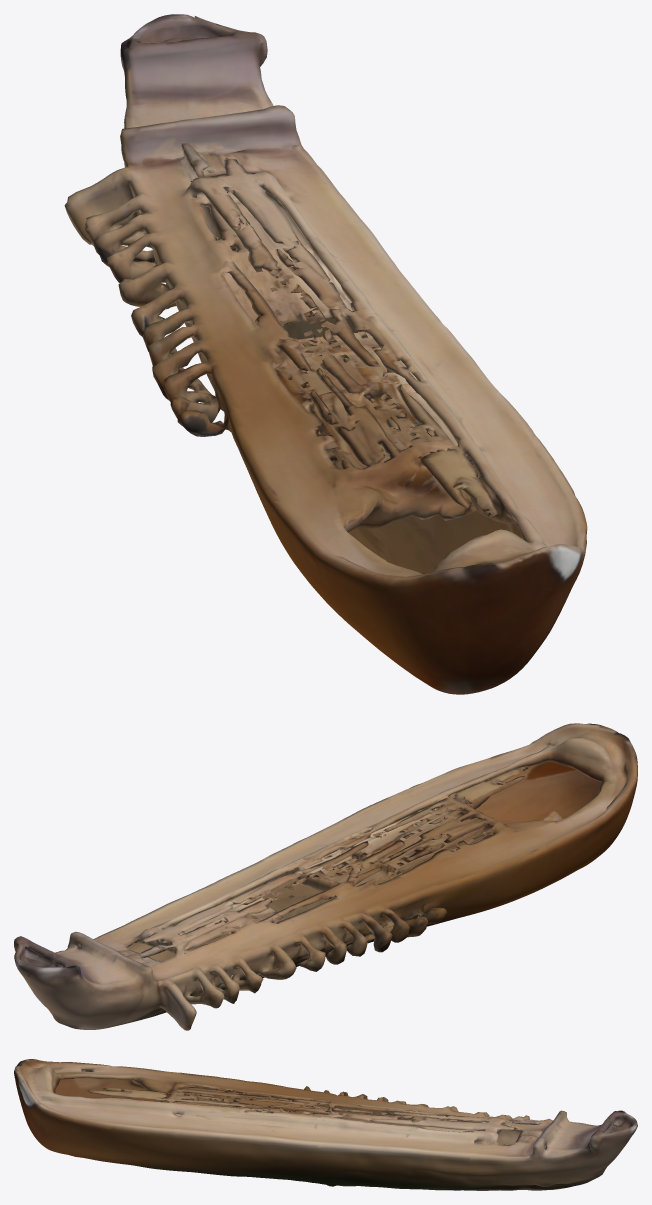
Rendered from kecapi-baduy.glb.
3 views of the same model, one above another, from view 1: azimuth 30°, elevation 25°; view 2: azimuth 150°, elevation 25°; view 3: azimuth 270°, elevation 25° (orthographic). The views are drawn at different scales.
Size of the model in its own units: 0.7931 by 0.3411 by 2.
Materials: 1 (1 with a texture image).
